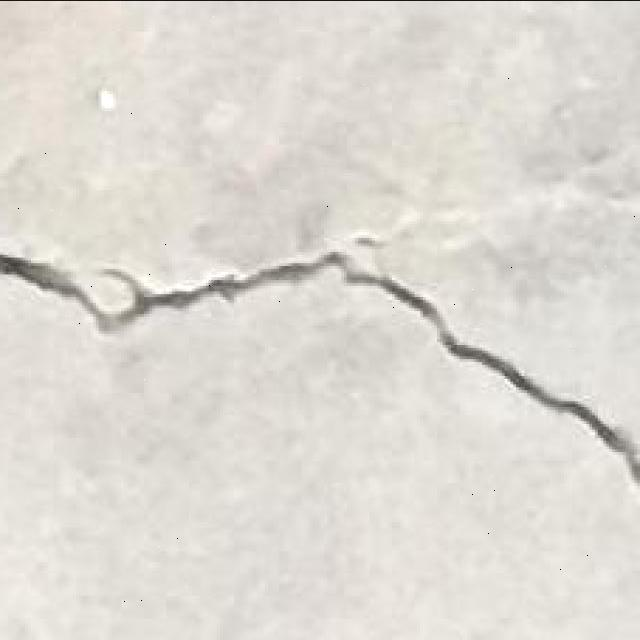corrosion: (1, 232, 638, 487)
crack: (194, 126, 444, 264), (5, 243, 345, 333), (447, 156, 635, 304), (23, 347, 185, 466), (0, 139, 133, 231), (543, 141, 640, 224), (206, 575, 325, 640), (7, 226, 94, 282)
